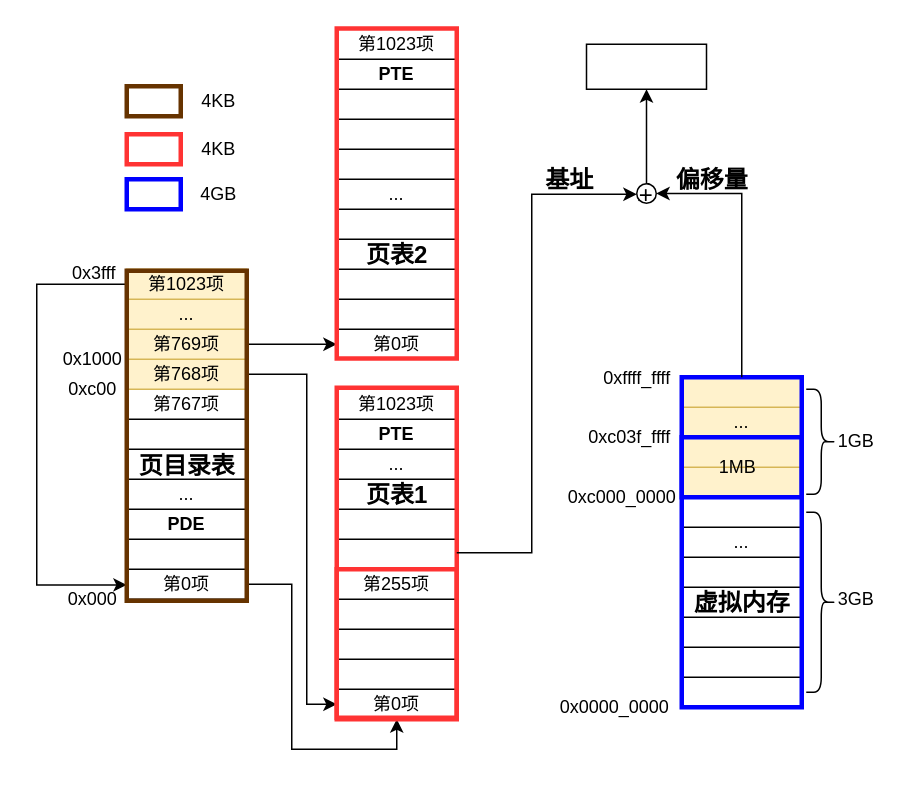
Some shapes in this 912 by 788 pixel diagram are drawn without their labels. Here are the shapes that lost their labels. From the top down, the box of each, then its label:
(585, 43, 706, 89): 物理地址
(334, 566, 458, 721): 256×4KB =1MB
